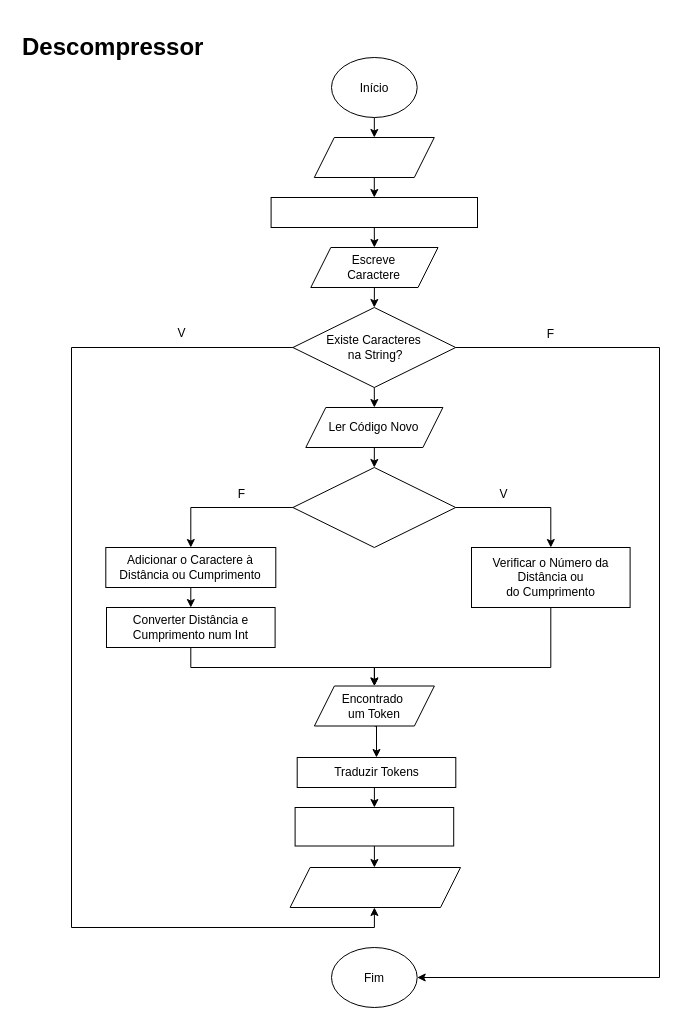
This 685x1025 diagram has some shape labels left out. The centre of each missing label's shape, as x and y in pixels:
Adicionar Caractere ao Output: pixel 374 887
Caractere Traduz Código Anterior: pixel 374 212
Ler Código Anterior: pixel 373 157
O Caractere é Um '<' ou um '>' ?: pixel 374 507
Redefinir Distância e Cumprimento: pixel 374 826
